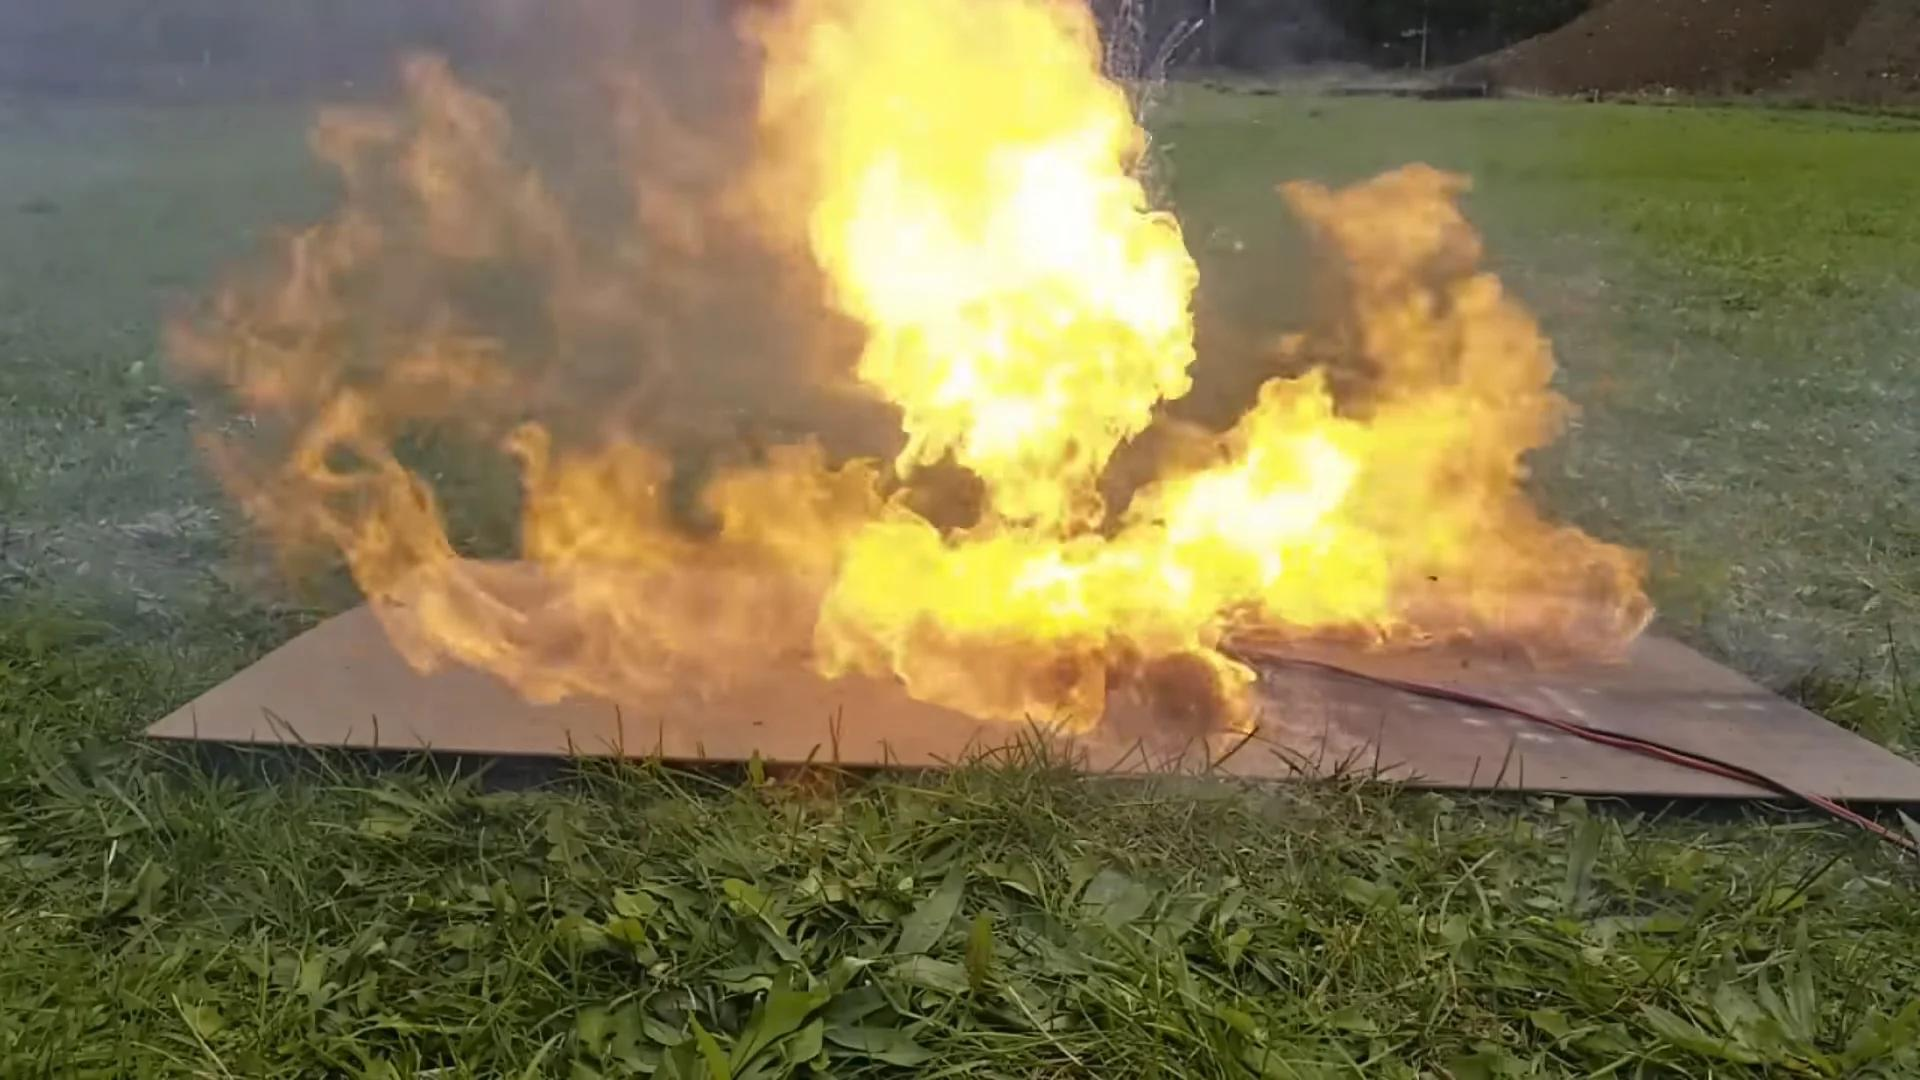fire: (253, 0, 1578, 782)
